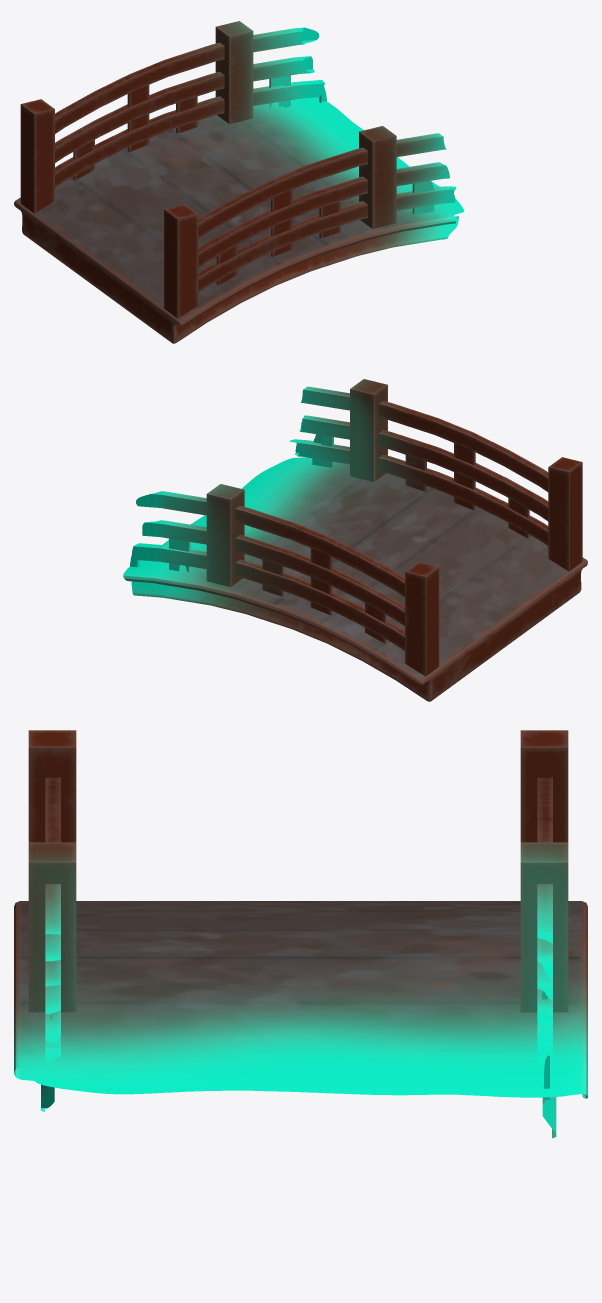
File: SM_RoundBridge_V2.fbx
The picture shows the model from 3 angles, top to bottom: view 1: azimuth 30°, elevation 25°; view 2: azimuth 150°, elevation 25°; view 3: azimuth 270°, elevation 25°; orthographic projection. The views are drawn at different scales.
Parts seen in each view (by area): view 1: SM_RoundBridge3, SM_RoundBridge13 (×2), SM_RoundBridge26 (×2), SM_RoundBridge27 (×2), SM_RoundBridge8 (×2), SM_RoundBridge11 (×2), SM_RoundBridge5 (×2); view 2: SM_RoundBridge3, SM_RoundBridge13 (×2), SM_RoundBridge26 (×2), SM_RoundBridge27 (×2), SM_RoundBridge8 (×2), SM_RoundBridge11 (×2), SM_RoundBridge5 (×2); view 3: SM_RoundBridge3, SM_RoundBridge11 (×2), SM_RoundBridge8 (×2), SM_RoundBridge13 (×2), SM_RoundBridge26 (×2), SM_RoundBridge27.
Boxes of the visible parts, x1,y1,x2,y2 form: SM_RoundBridge3: [14, 97, 463, 343]; SM_RoundBridge13 (×2): [55, 27, 446, 238]; SM_RoundBridge26 (×2): [55, 56, 449, 267]; SM_RoundBridge27 (×2): [55, 80, 456, 292]; SM_RoundBridge8 (×2): [20, 99, 198, 318]; SM_RoundBridge11 (×2): [215, 21, 396, 228]; SM_RoundBridge5 (×2): [127, 85, 292, 257]; SM_RoundBridge3: [123, 457, 587, 701]; SM_RoundBridge13 (×2): [136, 386, 548, 596]; SM_RoundBridge26 (×2): [142, 415, 548, 626]; SM_RoundBridge27 (×2): [132, 439, 548, 650]; SM_RoundBridge8 (×2): [405, 457, 582, 676]; SM_RoundBridge11 (×2): [206, 379, 387, 586]; SM_RoundBridge5 (×2): [310, 443, 475, 615]; SM_RoundBridge3: [14, 901, 587, 1138]; SM_RoundBridge11 (×2): [28, 842, 568, 1012]; SM_RoundBridge8 (×2): [28, 730, 568, 842]; SM_RoundBridge13 (×2): [45, 777, 552, 980]; SM_RoundBridge26 (×2): [45, 959, 552, 1026]; SM_RoundBridge27: [45, 1010, 60, 1062].
Bounding box in the file's own units: 593 × 217 × 419.
